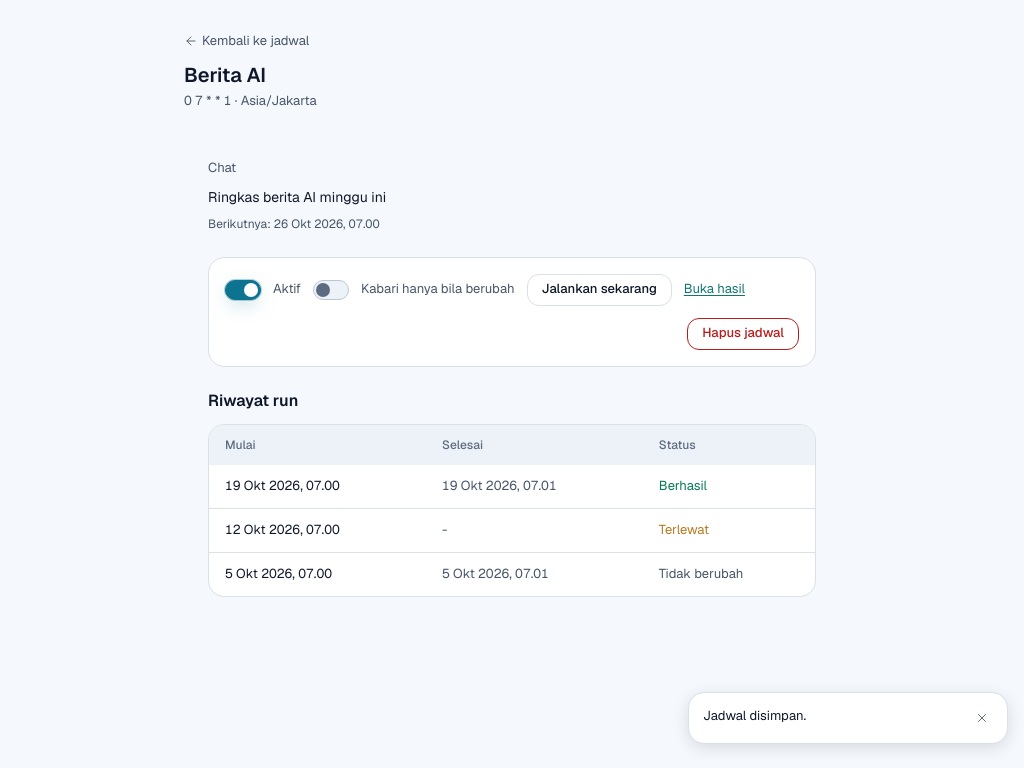
Test: ScheduleDetailScreen: riwayat dan aksi › menampilkan riwayat run dengan status, lalu Jalankan sekarang
Expected: the text "Berhasil" is shown, [643, 465, 815, 509]
Expected: the text "Terlewat" is shown, [643, 509, 815, 552]
Click the button "Jalankan sekarang": (599, 290) [526, 274, 672, 306]
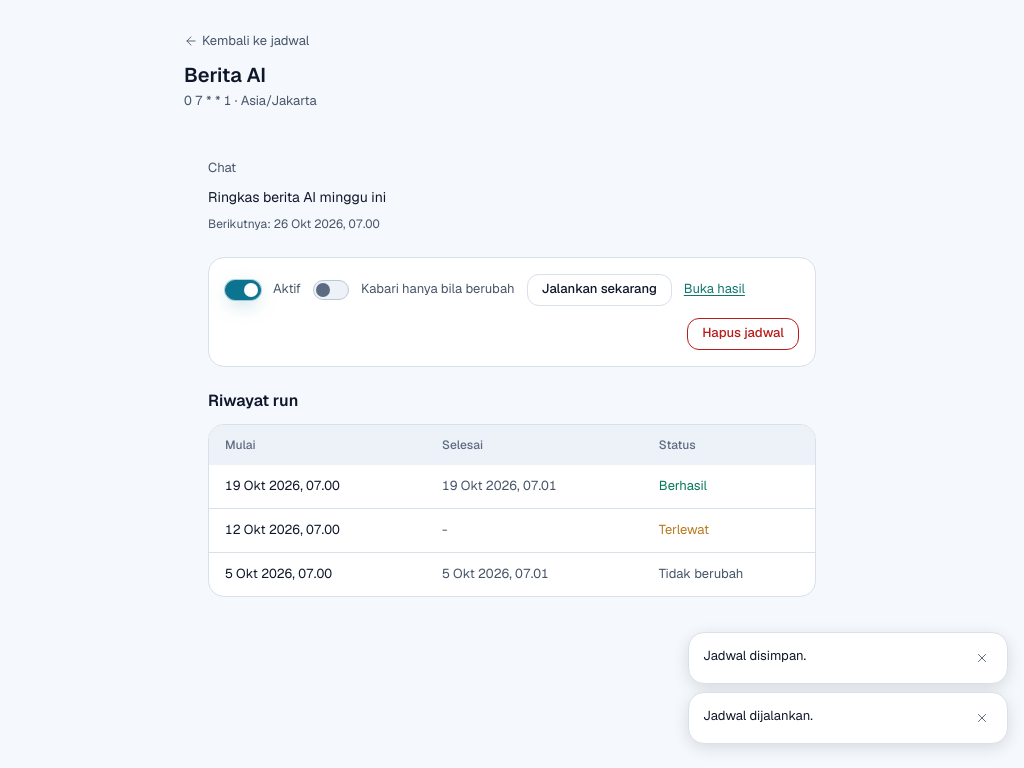
Now the text "Jadwal dijalankan." is shown, box [703, 707, 813, 724]
